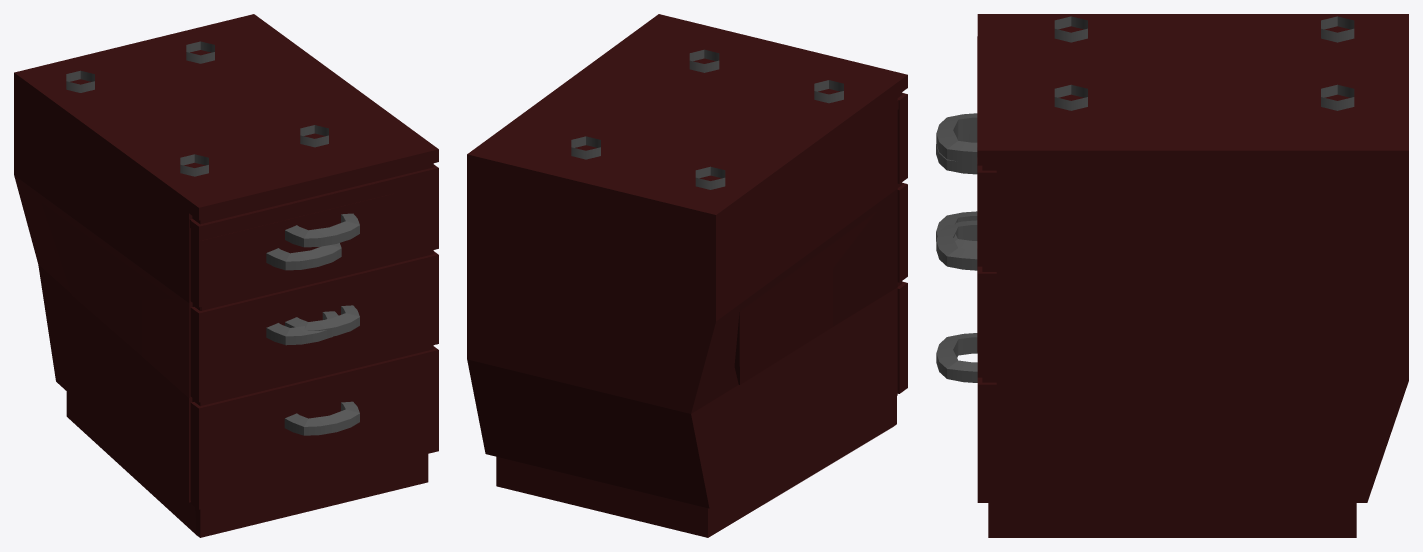
The model's file is Office_Table_Drawers.fbx.
3 renders of one model, left to right at view 1: azimuth 30°, elevation 25°; view 2: azimuth 150°, elevation 25°; view 3: azimuth 270°, elevation 25°, orthographic. The views are drawn at different scales.
Parts seen in each view (by area): view 1: Desk_Drawers_Large, Desk_Drawers_Small; view 2: Desk_Drawers_Large, Desk_Drawers_Small; view 3: Desk_Drawers_Large, Desk_Drawers_Small.
Boxes of the visible parts, x1,y1,x2,y2 form: Desk_Drawers_Large: [14, 14, 438, 537]; Desk_Drawers_Small: [42, 41, 394, 402]; Desk_Drawers_Large: [467, 14, 907, 537]; Desk_Drawers_Small: [571, 49, 906, 384]; Desk_Drawers_Large: [936, 14, 1408, 537]; Desk_Drawers_Small: [936, 16, 1354, 352].
Size of the model in its own units: 60 by 82.03 by 87.72.
